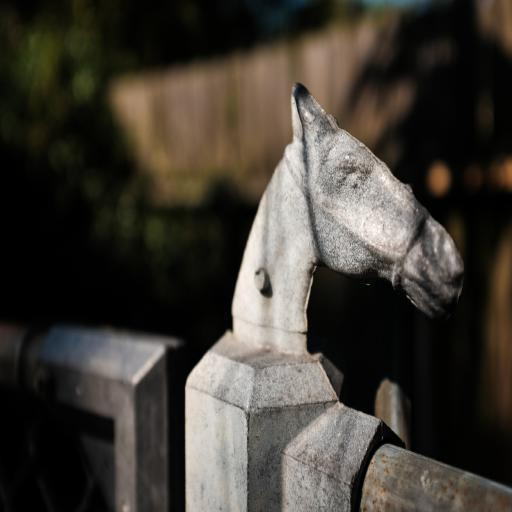horse: (230, 82, 464, 352)
